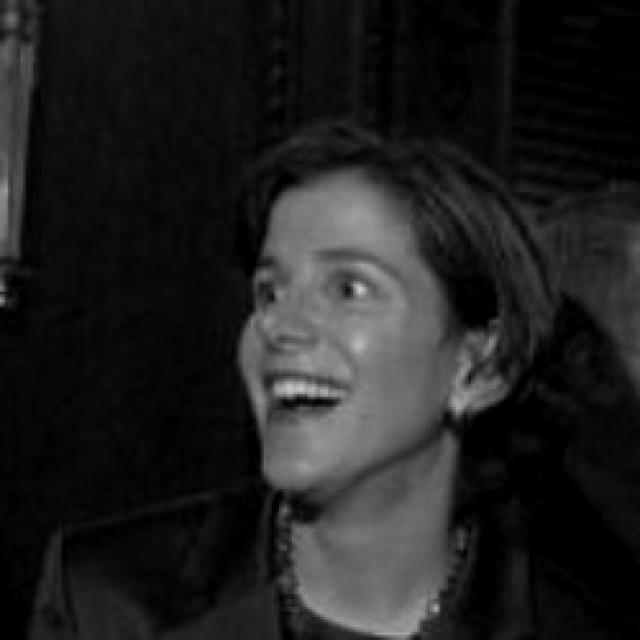real: (228, 147, 524, 517), (254, 256, 401, 318)
